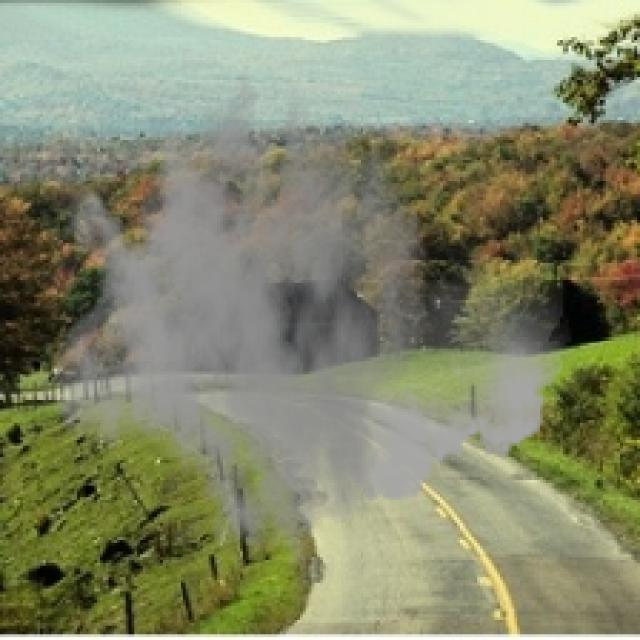smoke: (49, 43, 572, 568)
